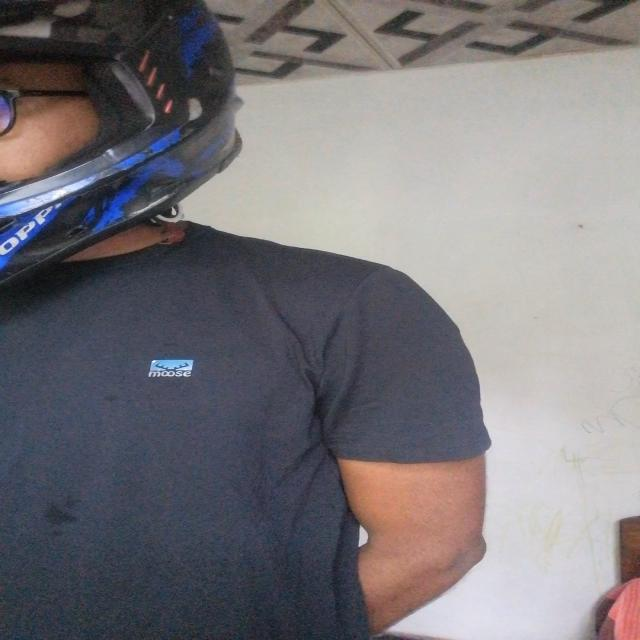Helmet_Wearer: (4, 0, 247, 307)
